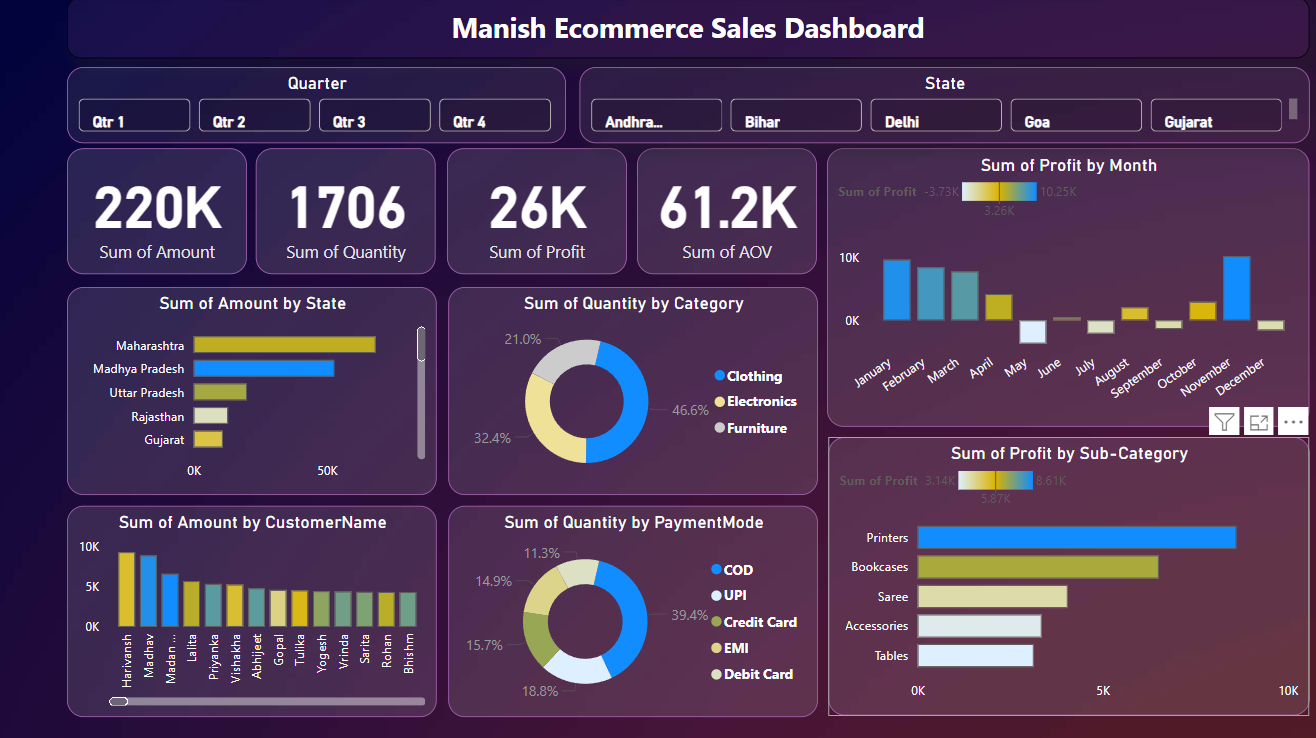

What the dashboard file says about the page in this screenshot:
{"tool":"powerbi","page":{"name":"Page 1","canvas":[1280,720],"ordinal":0},"visuals":[{"type":"textbox","box":[67.6,0,1199.2,59.1],"z":0},{"type":"clusteredColumnChart","fields":{"Y":["Details.Profit"],"Category":["Orders (1).Order Date.Variation.Date Hierarchy.Month"]},"box":[801.1,146,465.7,269],"z":1000},{"type":"clusteredBarChart","fields":{"Y":["Details.Profit"],"Category":["Details.Sub-Category"]},"box":[802.3,424.7,464.5,269],"z":2000},{"type":"donutChart","fields":{"Y":["Details.Quantity"],"Series":["Details.Category"]},"box":[435,280.4,357,201.1],"z":3000},{"type":"donutChart","fields":{"Y":["Details.Quantity"],"Category":["Details.PaymentMode"]},"box":[435,491,357,203.8],"z":4000},{"type":"card","fields":{"Values":["Details.Amount"]},"box":[67.6,146,173.7,121.9],"z":5000},{"type":"card","fields":{"Values":["Details.Quantity"]},"box":[249.7,146,173.7,121.9],"z":6000},{"type":"card","fields":{"Values":["Details.Profit"]},"box":[434.3,146,173.7,121.9],"z":7000},{"type":"card","fields":{"Values":["Details.AOV"]},"box":[618.3,146.4,173.7,121.7],"z":8000},{"type":"clusteredBarChart","fields":{"Y":["Details.Amount"],"Category":["Orders (1).State"]},"box":[67,280.4,357,201.1],"z":9000},{"type":"columnChart","fields":{"Category":["Orders (1).CustomerName"],"Y":["Details.Amount"]},"box":[67,491,357,203.8],"z":10000},{"type":"advancedSlicerVisual","fields":{"Values":["Orders (1).Order Date.Variation.Date Hierarchy.Quarter"]},"box":[67,67,481.5,73.9],"z":11000},{"type":"advancedSlicerVisual","fields":{"Values":["Orders (1).State"]},"box":[562.2,67,704.4,73.9],"z":11001}]}

Visuals, with their boxes in screenshot pixels (x1, y1, x2, y2), scaled from the page's 1280x720 canvas onto the 1316x738 screenshot:
textbox: 70 0 1302 61
clusteredColumnChart - Details.Profit x Orders (1).Order Date.Variation.Date Hierarchy.Month: 824 150 1302 425
clusteredBarChart - Details.Profit x Details.Sub-Category: 825 435 1302 711
donutChart - Details.Quantity x Details.Category: 447 287 814 494
donutChart - Details.Quantity x Details.PaymentMode: 447 503 814 712
card - Details.Amount: 70 150 248 275
card - Details.Quantity: 257 150 435 275
card - Details.Profit: 447 150 625 275
card - Details.AOV: 636 150 814 275
clusteredBarChart - Details.Amount x Orders (1).State: 69 287 436 494
columnChart - Orders (1).CustomerName x Details.Amount: 69 503 436 712
advancedSlicerVisual - Orders (1).Order Date.Variation.Date Hierarchy.Quarter: 69 69 564 144
advancedSlicerVisual - Orders (1).State: 578 69 1302 144
